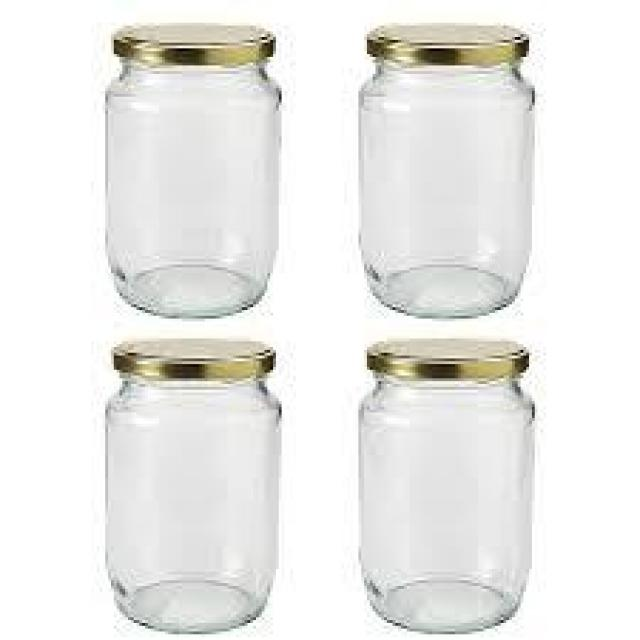non-organic waste: (102, 21, 288, 320)
